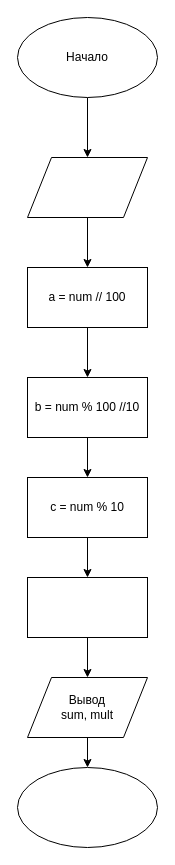
The diagram is 175 pixels wide and 865 high, and some of its shapes have lost their labels. The centre of each missing label's shape, as x and y in pixels:
"sum = a + b + c mult = a*b*c" goes at (87,607).
"Ввод num" goes at (87,187).
"Конец" goes at (87,807).
